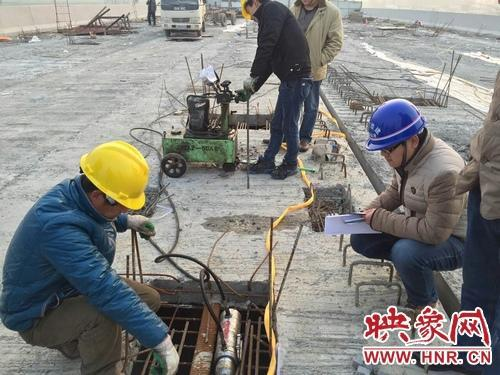helmet: (70, 135, 162, 223), (366, 91, 436, 169), (240, 1, 273, 23)
